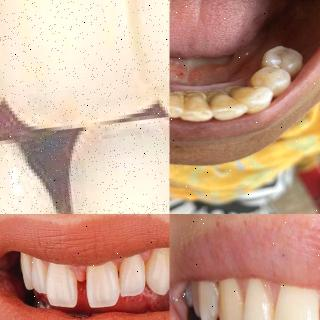calculus: (205, 86, 231, 108), (187, 88, 209, 109), (169, 86, 187, 110), (225, 81, 245, 102)
